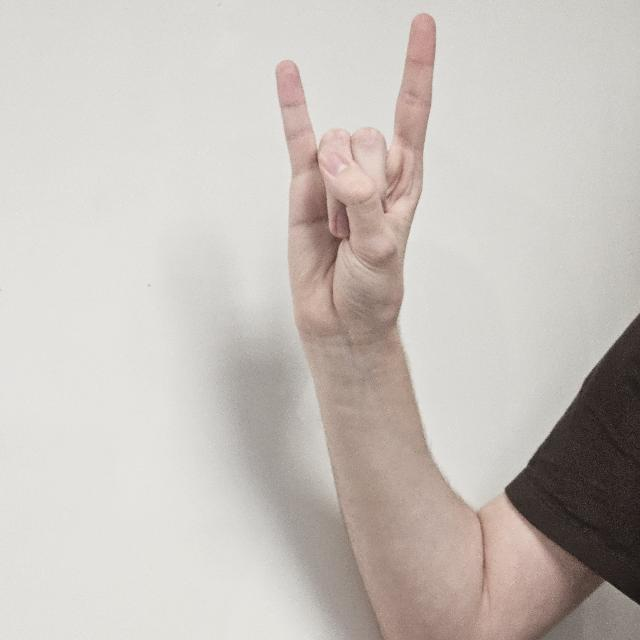L: (276, 11, 437, 366)
